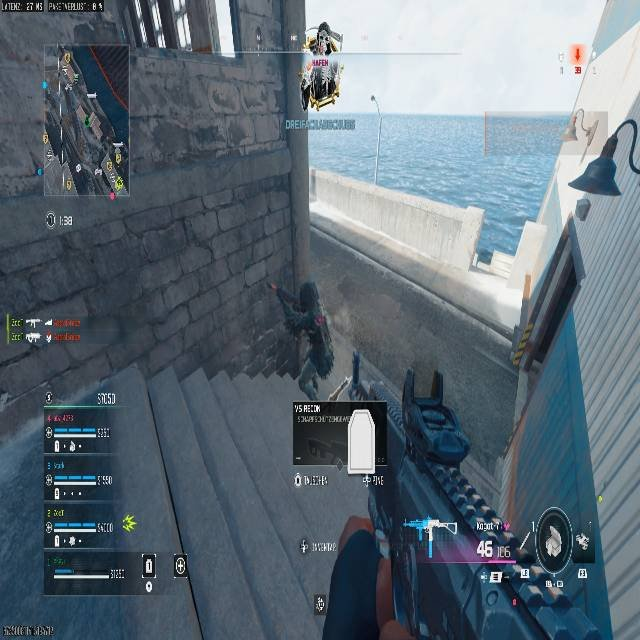head: (297, 280, 321, 310), (318, 22, 330, 35)
player: (284, 281, 333, 401), (303, 21, 341, 110)
